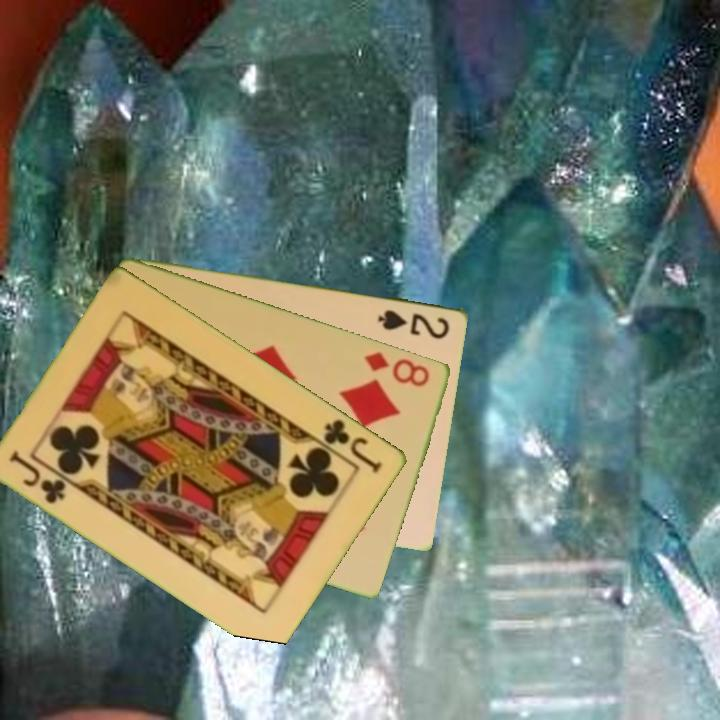2s: (375, 306, 453, 342)
8d: (361, 347, 433, 390)
Jc: (320, 415, 386, 477), (6, 446, 70, 507)
